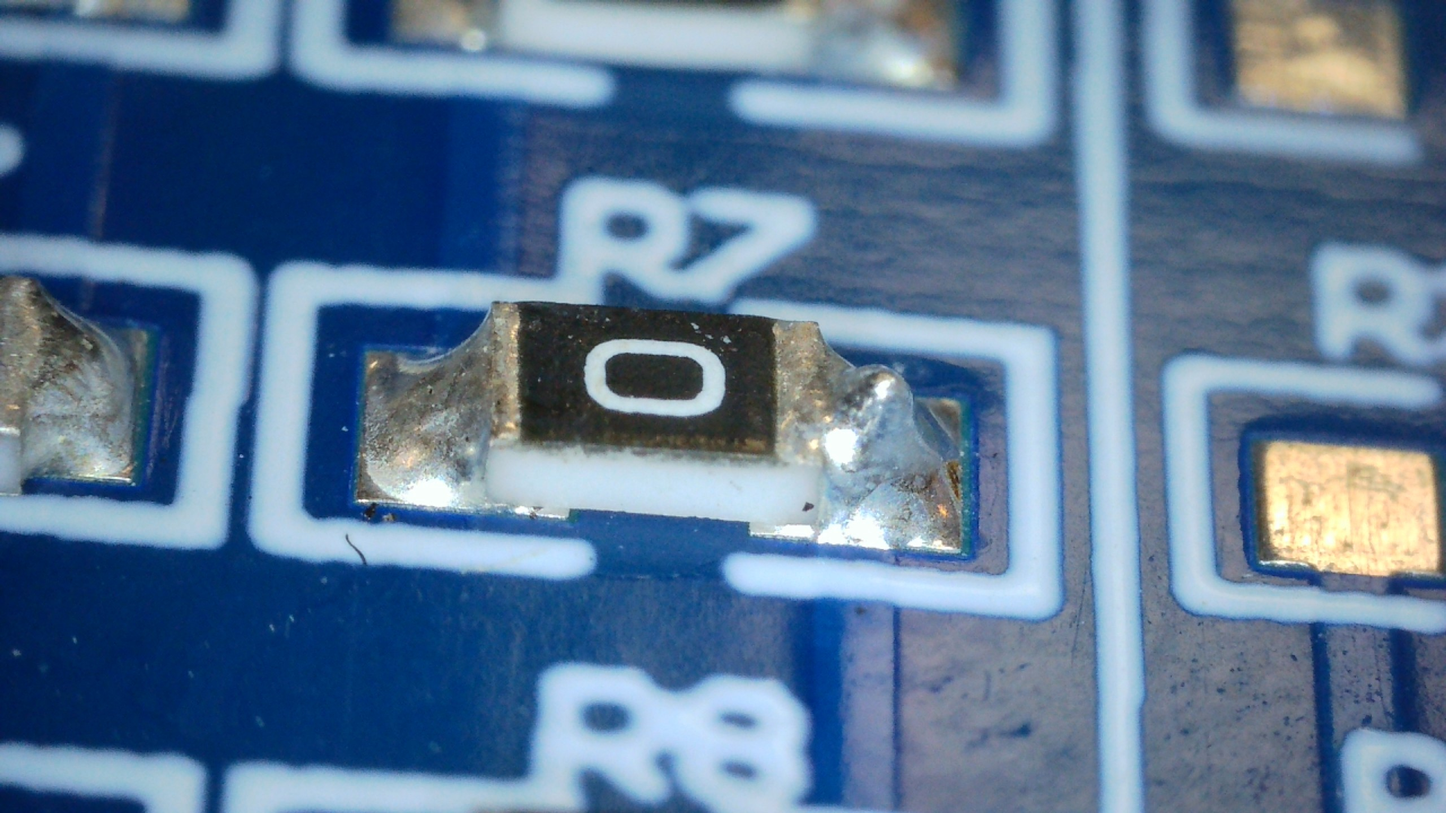NG: (774, 321, 959, 547)
OK: (365, 301, 521, 508)
